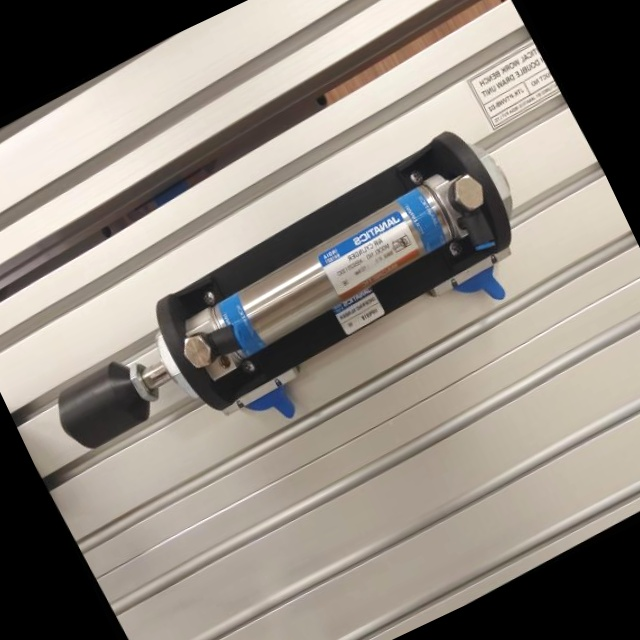double acting pneumatic cylinder: (3, 101, 578, 533)
